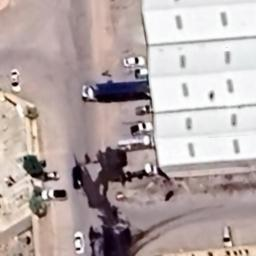others: (117, 134, 155, 152)
pickup: (40, 188, 68, 200), (130, 122, 154, 135)
sedan: (121, 54, 147, 68), (73, 230, 87, 254), (10, 68, 22, 94), (40, 170, 62, 182)
truck: (81, 82, 152, 103), (124, 162, 160, 181)
van: (222, 225, 236, 249), (134, 102, 156, 116)
